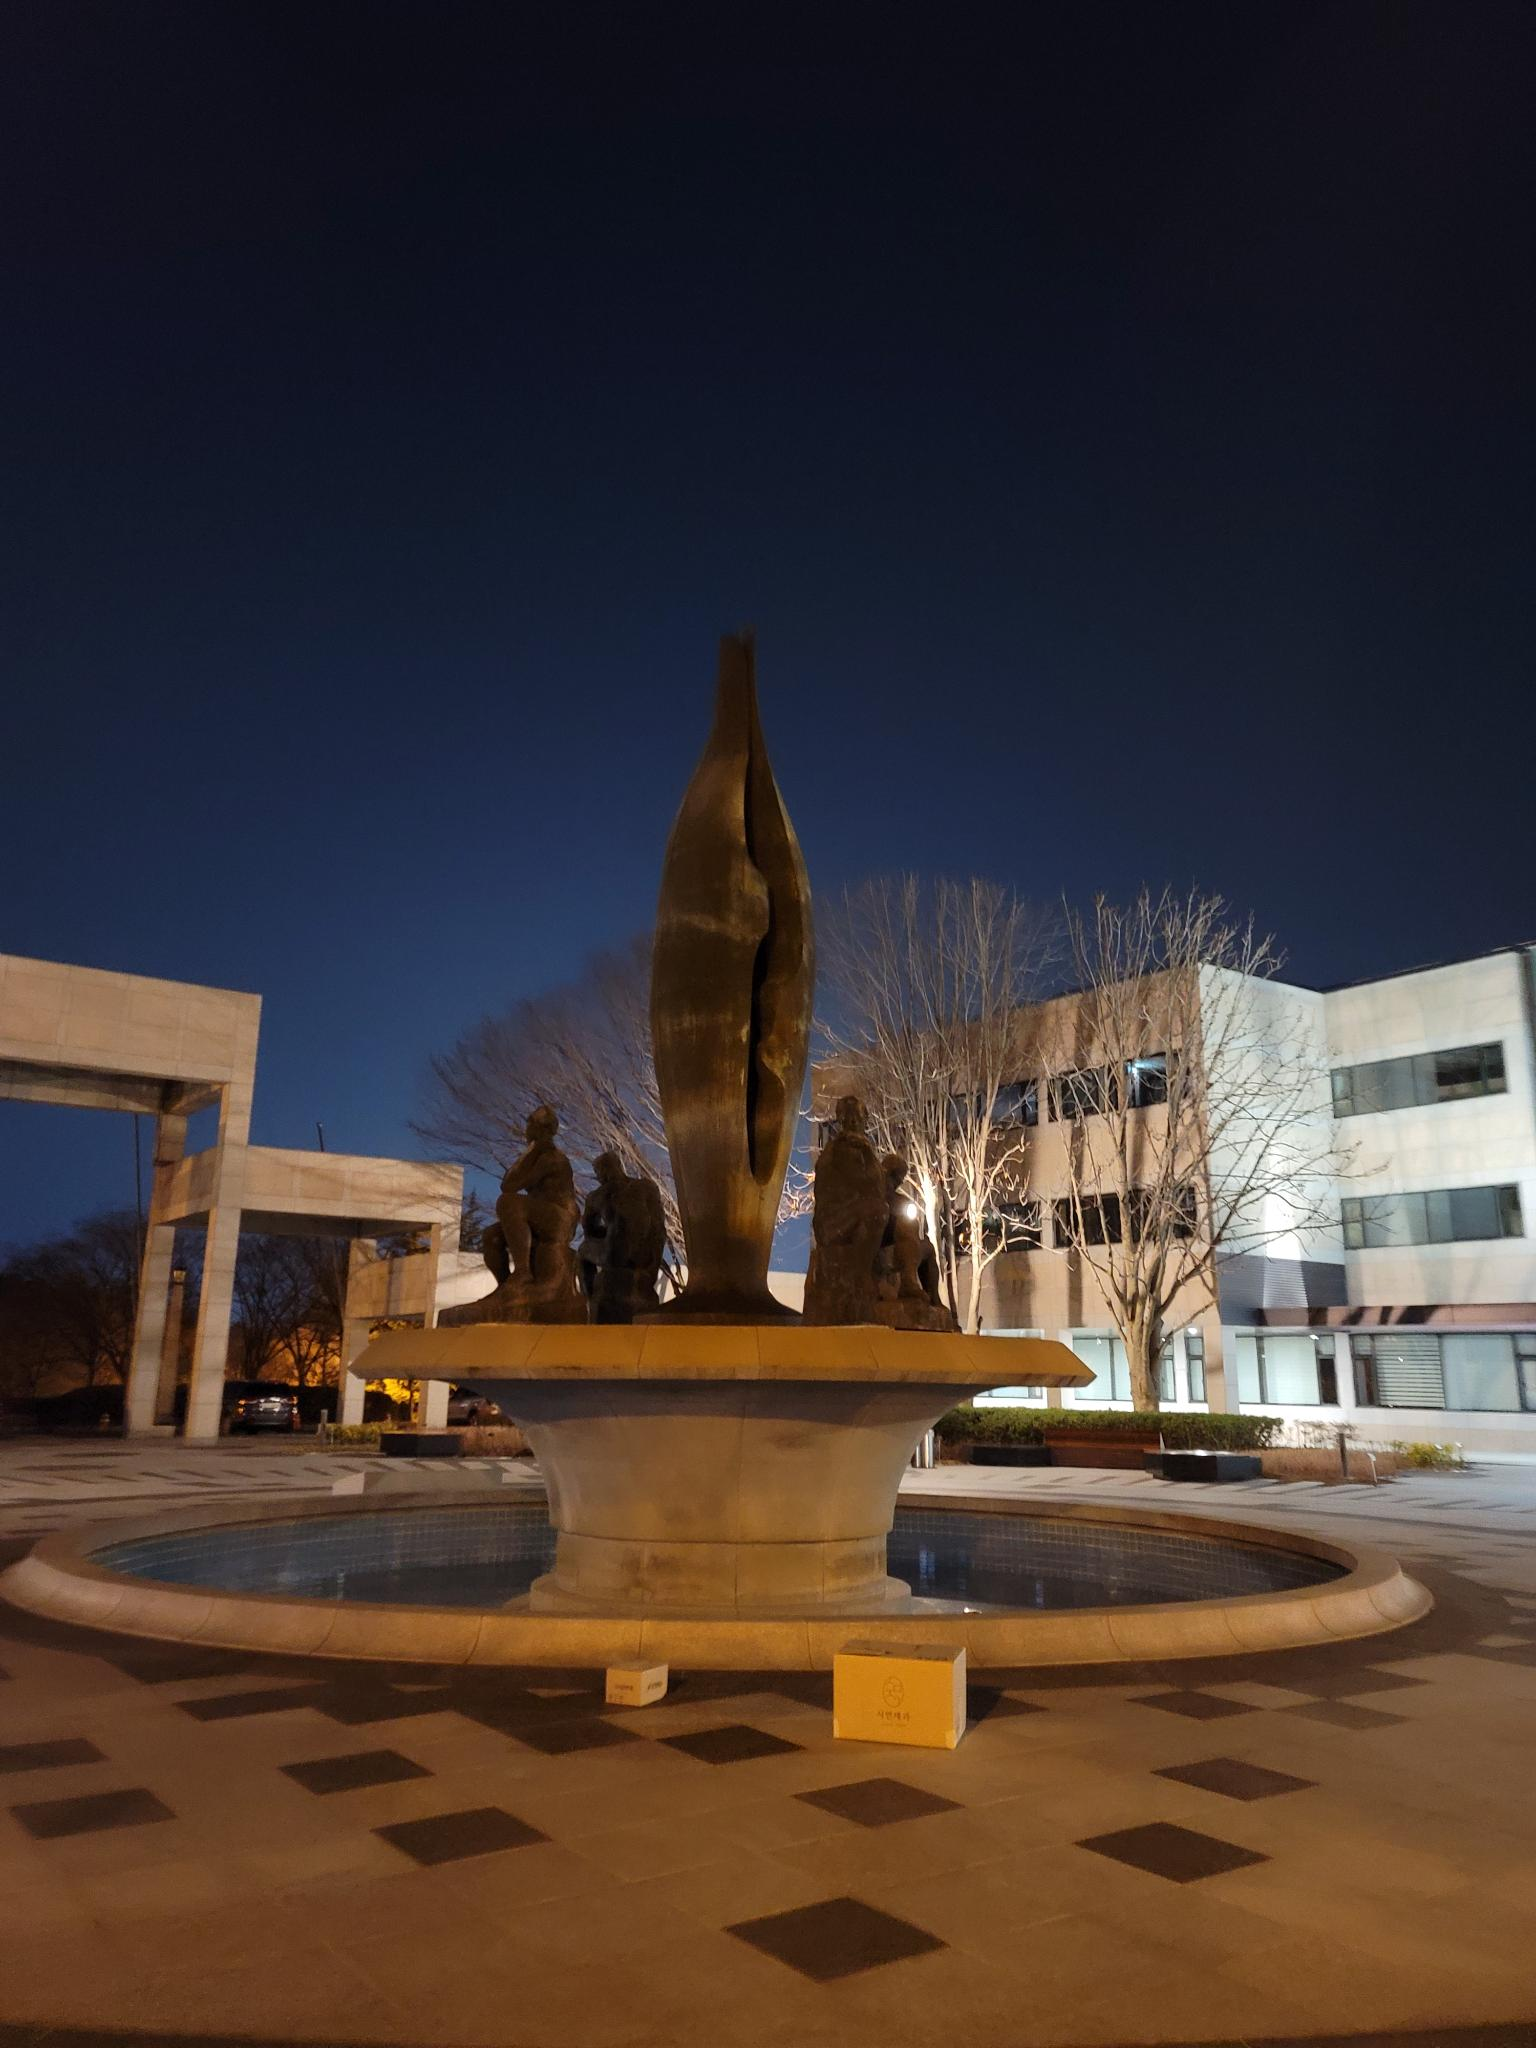Box: (821, 1629, 976, 1753), (600, 1643, 681, 1714)
